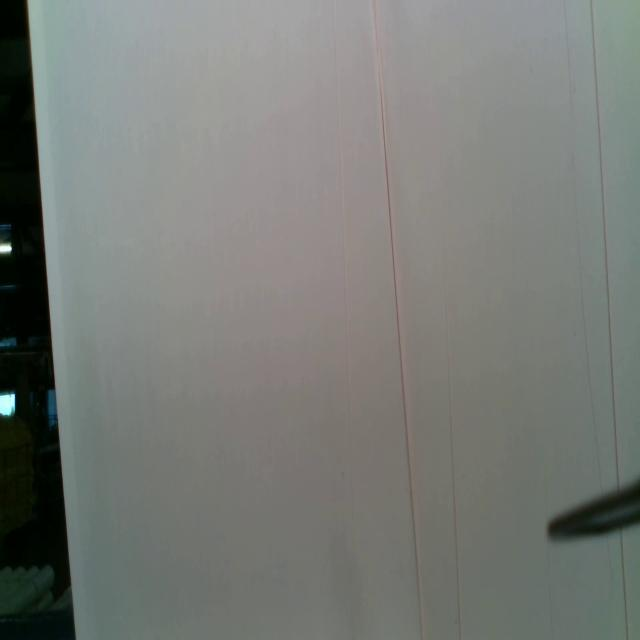crease: (371, 0, 424, 640), (563, 0, 604, 497), (590, 0, 620, 488), (332, 0, 354, 521), (442, 238, 463, 640), (619, 530, 630, 640)
